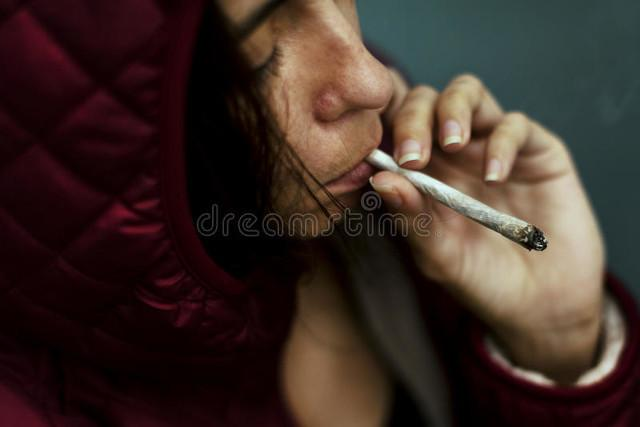Cigarette: (368, 147, 547, 254)
